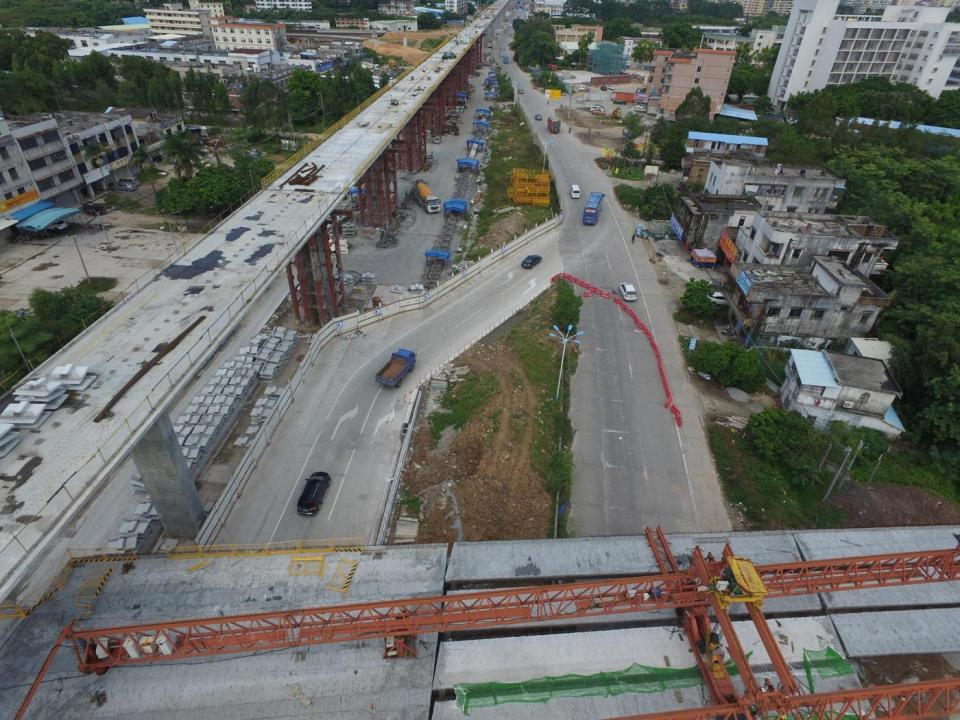bus: (584, 192, 604, 224)
car: (298, 471, 332, 515), (620, 280, 637, 304), (708, 292, 736, 305), (523, 253, 540, 270), (114, 182, 135, 190), (614, 99, 626, 105), (592, 110, 605, 115), (622, 62, 631, 66), (536, 114, 541, 121), (518, 89, 524, 94), (608, 85, 614, 90), (601, 86, 607, 91)
truck: (376, 348, 415, 388), (548, 116, 561, 132), (578, 86, 590, 91), (503, 57, 508, 63)
van: (120, 177, 140, 186), (571, 184, 580, 198), (434, 136, 442, 144), (636, 106, 646, 112), (590, 105, 598, 111), (500, 52, 503, 56)
